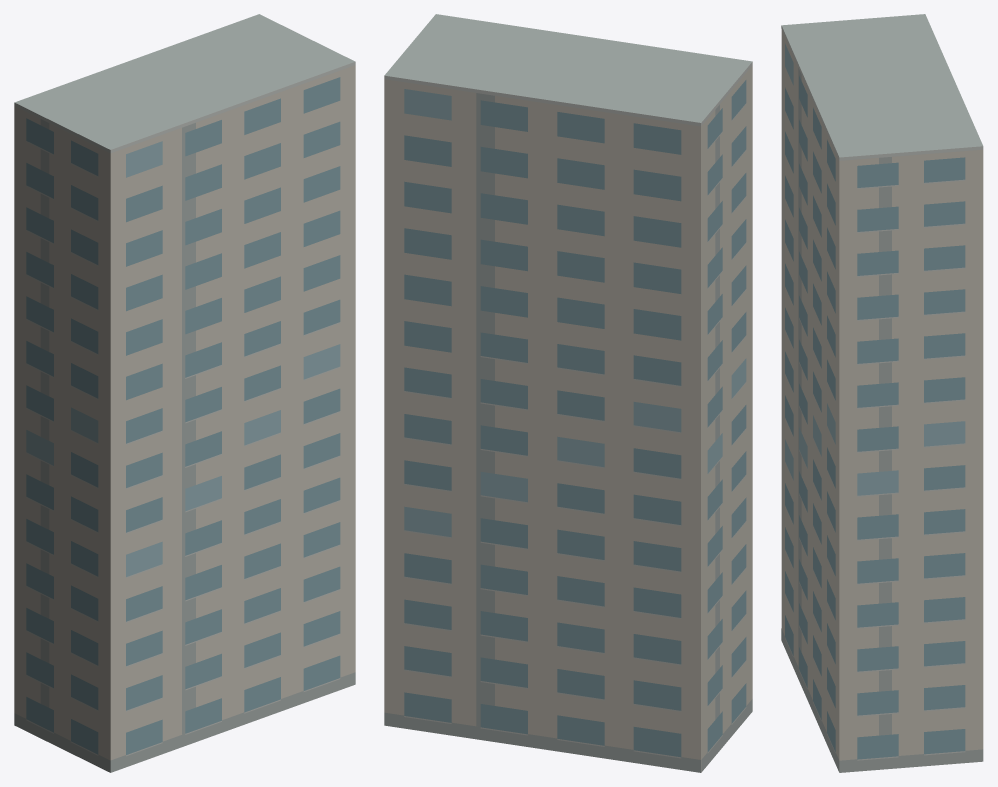
Rendered from residential-4b665739-2f27-4267-9a7d-bd9dd3eb3711.glb.
3 renders of one model, left to right at view 1: azimuth 30°, elevation 25°; view 2: azimuth 150°, elevation 25°; view 3: azimuth 270°, elevation 25°, orthographic. The views are drawn at different scales.
Parts seen in each view (by area): view 1: residential-4b665739-2f27-4267-9a7d-bd9dd3eb3711.tmp; view 2: residential-4b665739-2f27-4267-9a7d-bd9dd3eb3711.tmp; view 3: residential-4b665739-2f27-4267-9a7d-bd9dd3eb3711.tmp.
Boxes of the visible parts, x1=… form: residential-4b665739-2f27-4267-9a7d-bd9dd3eb3711.tmp: x1=14, y1=14, x2=355, y2=772; residential-4b665739-2f27-4267-9a7d-bd9dd3eb3711.tmp: x1=384, y1=14, x2=752, y2=772; residential-4b665739-2f27-4267-9a7d-bd9dd3eb3711.tmp: x1=781, y1=14, x2=983, y2=772.
Size of the model in its own units: 22.02 by 44 by 13.09.
